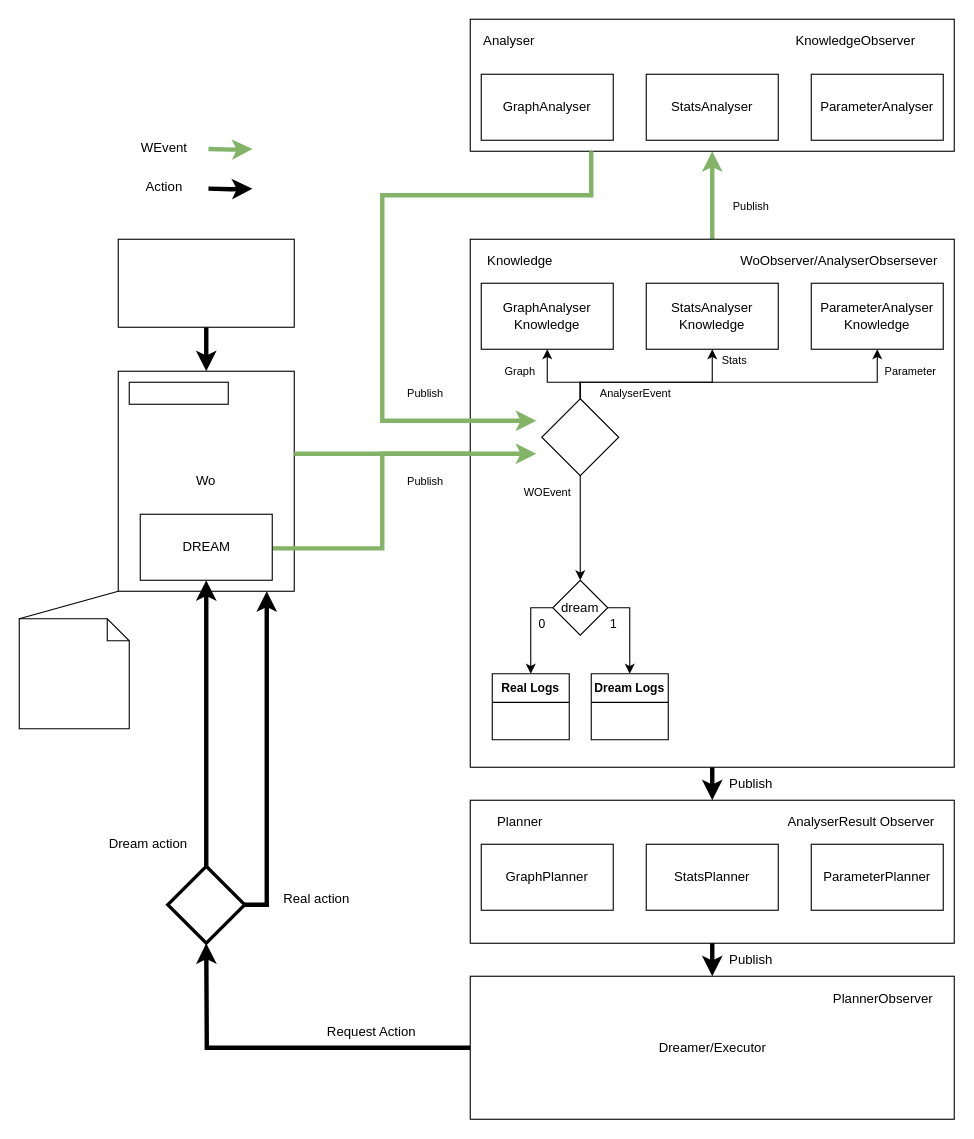
Some shapes in this 974 by 1139 pixel diagram are drawn without their labels. The shapes that lost their labels are listed below. From the top down, each one's centre as x and y in pixels, then its label:
(x=205, y=282): Metier
(x=178, y=392): AWAKE/IDLE
(x=580, y=437): WEvent Manager
(x=73, y=673): IDLE != DREAM DREAM ⊆ IDLE
(x=206, y=904): Executor Manager
